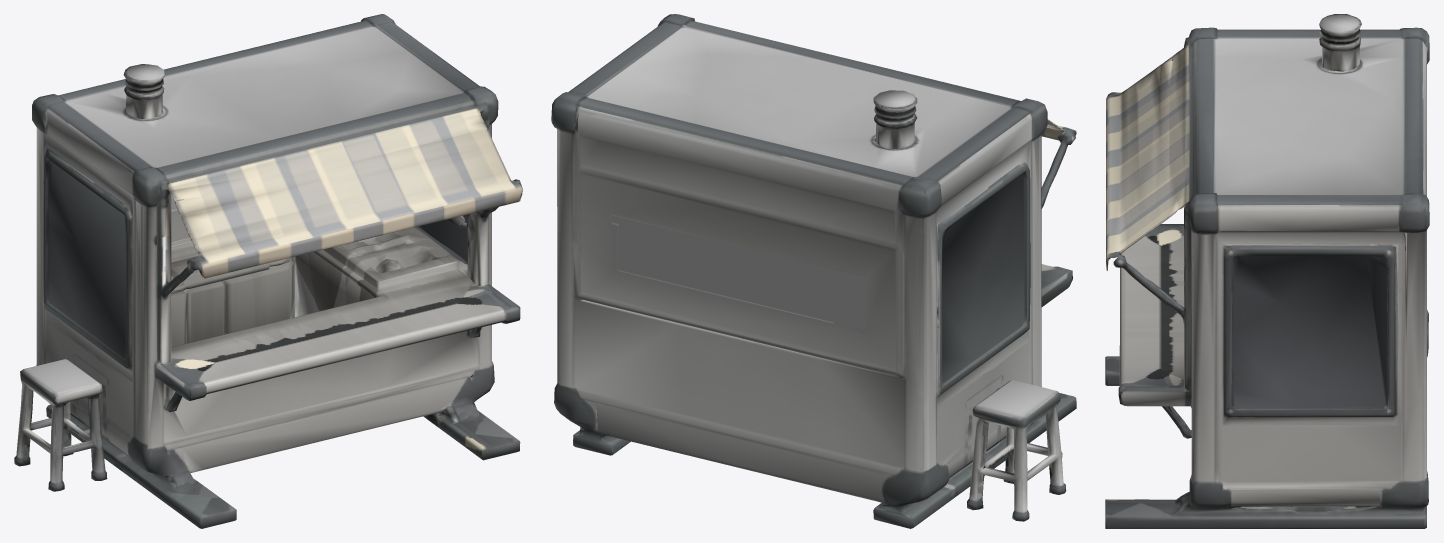
Rendered from foodcart.glb.
The picture shows the model from 3 angles, left to right: view 1: azimuth 30°, elevation 25°; view 2: azimuth 150°, elevation 25°; view 3: azimuth 270°, elevation 25°; orthographic projection. The views are drawn at different scales.
Parts seen in each view (by area): view 1: low; view 2: low; view 3: low.
Boxes of the visible parts, box(x1,y1,x2,y2) form: low: box(14, 14, 522, 528); low: box(551, 14, 1076, 528); low: box(1105, 14, 1429, 528).
Bounding box in the file's own units: 1.88 × 1.59 × 1.24.
1 material, 1 textured.
